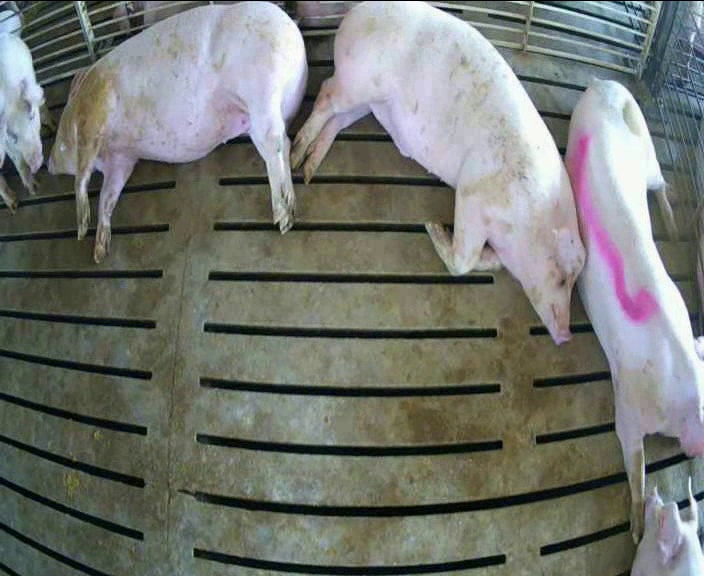pig: (292, 2, 584, 342), (49, 2, 306, 262), (566, 80, 703, 540)
